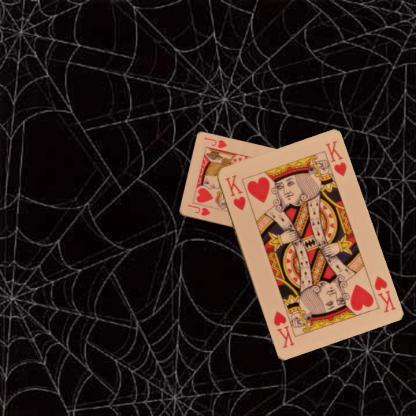Jh: (185, 202, 211, 217)
Kh: (371, 273, 396, 314), (222, 172, 247, 212)
